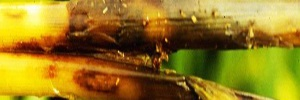RiceSheathBrownRot: (1, 1, 300, 46)
